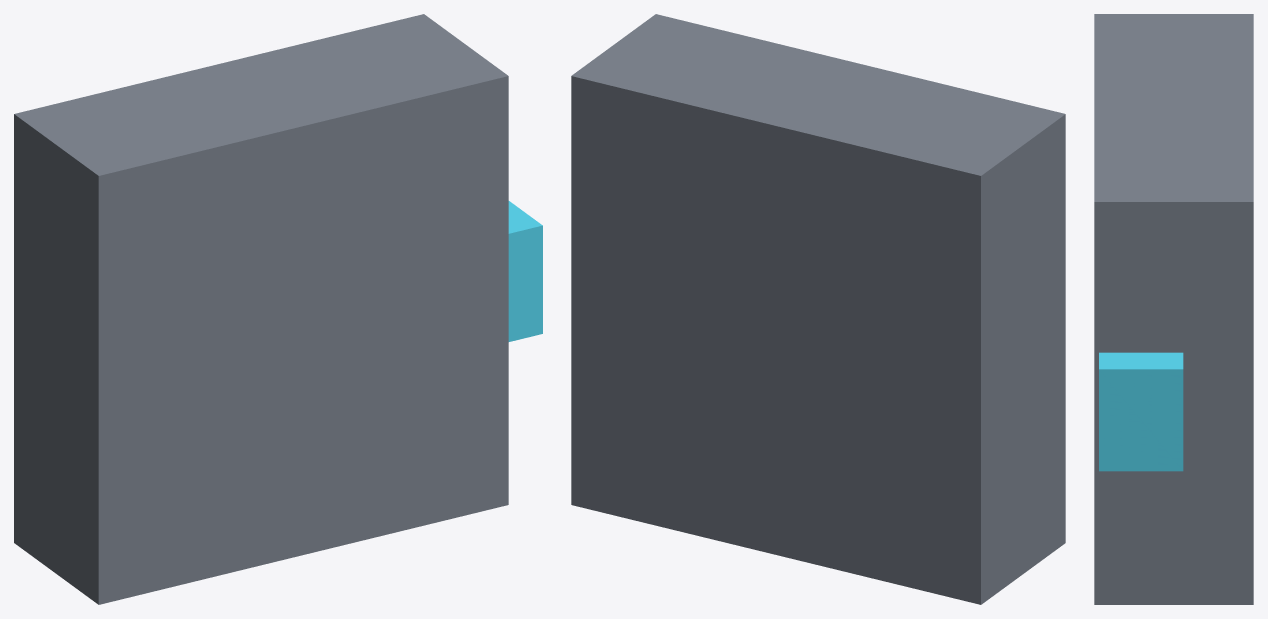
Rendered from swerve_fork.glb.
The picture shows the model from 3 angles, left to right: view 1: azimuth 30°, elevation 25°; view 2: azimuth 150°, elevation 25°; view 3: azimuth 270°, elevation 25°; orthographic projection. The views are drawn at different scales.
Visible parts, largest first — view 1: NOSIMPLIFY_swerve_fork; view 2: NOSIMPLIFY_swerve_fork; view 3: NOSIMPLIFY_swerve_fork.
Boxes of the visible parts, x1,y1,x2,y2 form: NOSIMPLIFY_swerve_fork: (14,14,542,604); NOSIMPLIFY_swerve_fork: (571,14,1065,604); NOSIMPLIFY_swerve_fork: (1094,14,1253,604).
Bounding box in the file's own units: 0.1035 × 0.095 × 0.034.
